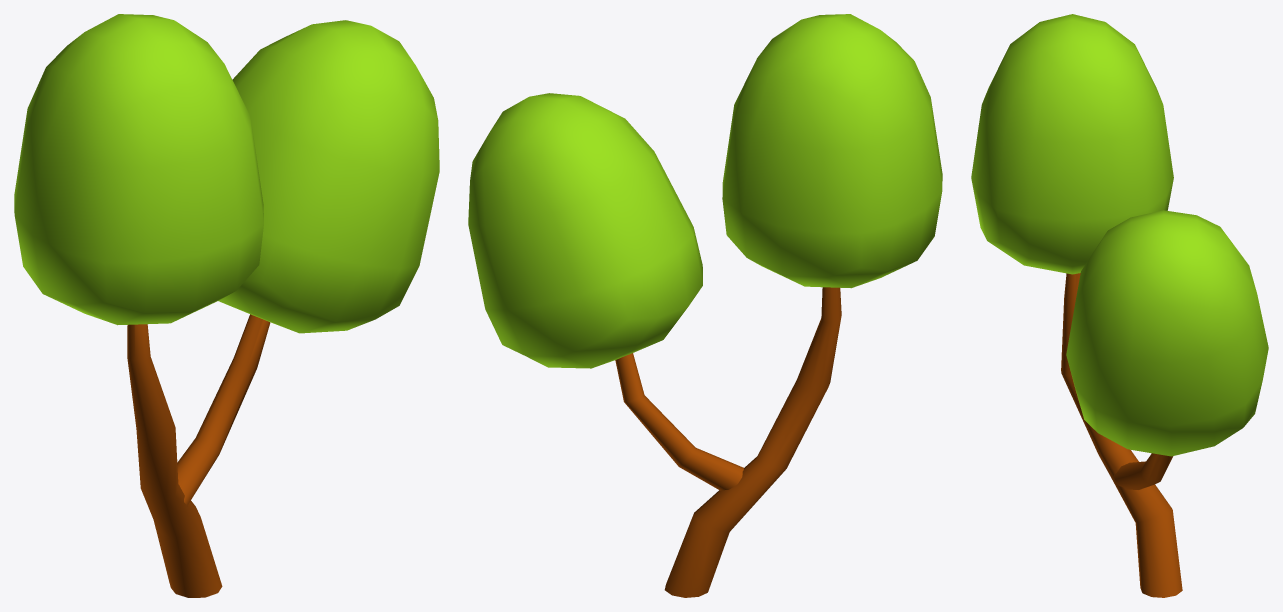
File: Tree_29_Spring.fbx
3 views of the same model, side by side, from view 1: azimuth 30°, elevation 25°; view 2: azimuth 150°, elevation 25°; view 3: azimuth 270°, elevation 25° (orthographic). The views are drawn at different scales.
Visible parts, largest first — view 1: Tree_29_p2_Spring, Tree_29_p1_Spring; view 2: Tree_29_p2_Spring, Tree_29_p1_Spring; view 3: Tree_29_p2_Spring, Tree_29_p1_Spring.
Boxes of the visible parts, left/top/right/bottom form: Tree_29_p2_Spring: left=14, top=14, right=439, bottom=333; Tree_29_p1_Spring: left=127, top=314, right=270, bottom=597; Tree_29_p2_Spring: left=468, top=14, right=942, bottom=368; Tree_29_p1_Spring: left=615, top=287, right=841, bottom=597; Tree_29_p2_Spring: left=971, top=14, right=1268, bottom=456; Tree_29_p1_Spring: left=1061, top=273, right=1182, bottom=597.
Size of the model in its own units: 287 by 392 by 201.
